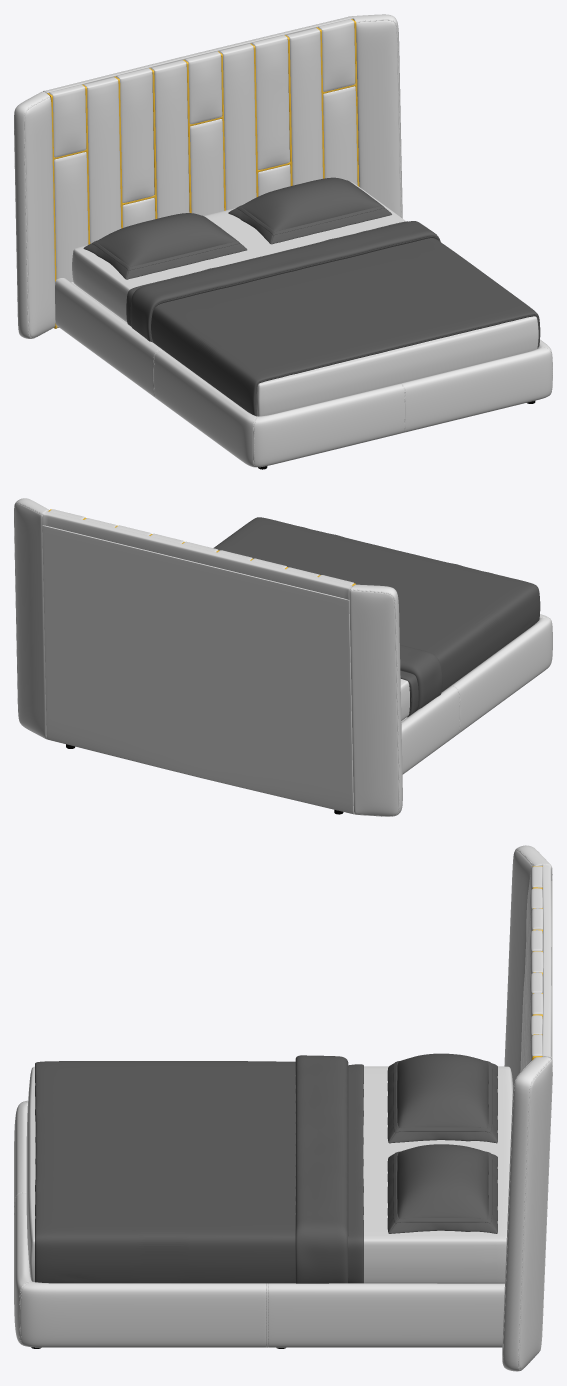
The model's file is SLN_CLAVEL.glb.
The picture shows the model from 3 angles, top to bottom: view 1: azimuth 30°, elevation 25°; view 2: azimuth 150°, elevation 25°; view 3: azimuth 270°, elevation 25°; orthographic projection. The views are drawn at different scales.
Visible parts, largest first — view 1: CLAVEL; view 2: CLAVEL; view 3: CLAVEL.
Boxes of the visible parts, left/top/right/bottom form: CLAVEL: left=14, top=14, right=552, bottom=469; CLAVEL: left=14, top=498, right=552, bottom=816; CLAVEL: left=14, top=845, right=552, bottom=1371.
Bounding box in the file's own units: 2.38 × 1.41 × 2.26.
5 materials, 1 textured.
